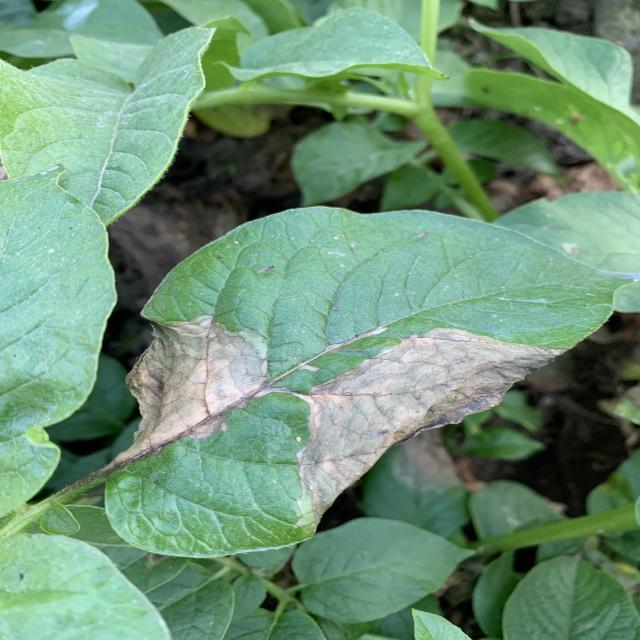lateblight: (297, 329, 560, 522), (115, 315, 267, 464)
